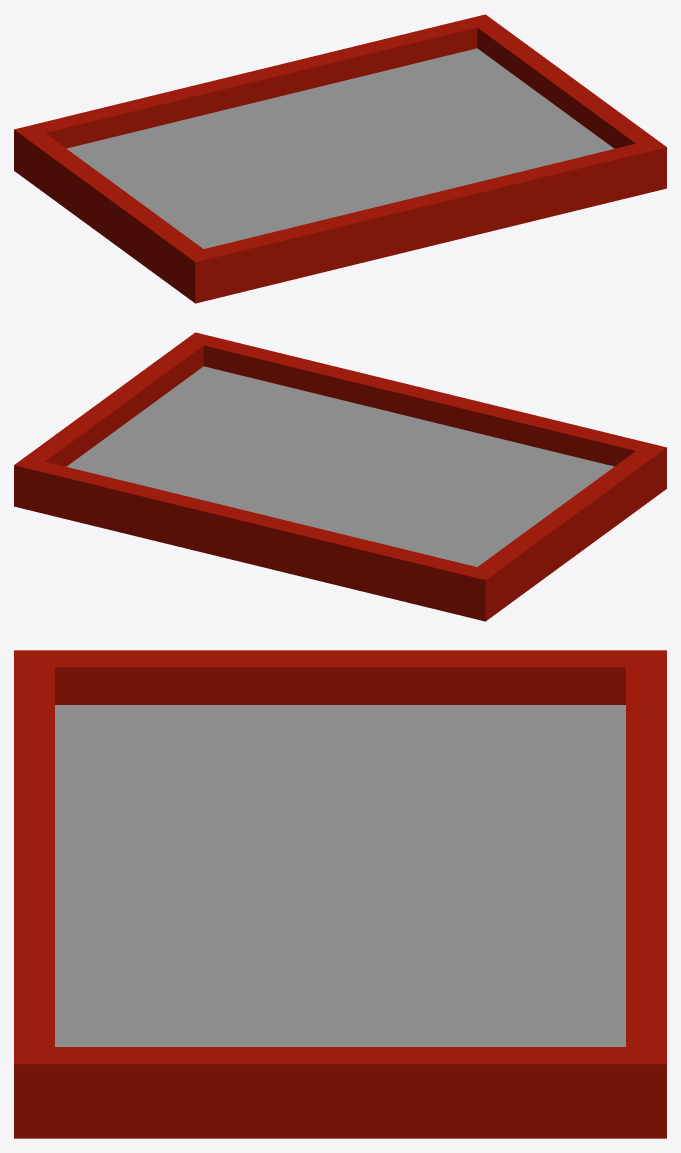
The model's file is arch_roof.glb.
The picture shows the model from 3 angles, top to bottom: view 1: azimuth 30°, elevation 25°; view 2: azimuth 150°, elevation 25°; view 3: azimuth 270°, elevation 25°; orthographic projection. The views are drawn at different scales.
Visible parts, largest first — view 1: mesh, opening-bottomright, opening-bottomleft, opening-left, opening-right; view 2: mesh, opening-bottomright, opening-bottomleft, opening-left, opening-right; view 3: opening-bottomleft, opening-bottomright, mesh, opening-left, opening-right.
Part boxes in pixels (bbox=[...]): mesh: bbox=[14, 14, 666, 303]; opening-bottomright: bbox=[261, 48, 614, 201]; opening-bottomleft: bbox=[66, 101, 397, 248]; opening-left: bbox=[25, 133, 203, 274]; opening-right: bbox=[477, 22, 655, 148]; mesh: bbox=[14, 332, 666, 621]; opening-bottomright: bbox=[66, 366, 419, 519]; opening-bottomleft: bbox=[283, 419, 614, 566]; opening-left: bbox=[477, 451, 655, 592]; opening-right: bbox=[25, 340, 203, 466]; opening-bottomleft: bbox=[55, 705, 625, 894]; opening-bottomright: bbox=[55, 894, 625, 1046]; mesh: bbox=[14, 650, 666, 1138]; opening-left: bbox=[55, 650, 625, 704]; opening-right: bbox=[55, 1047, 625, 1101].
Size of the model in its own units: 12.01 by 1.01 by 8.
